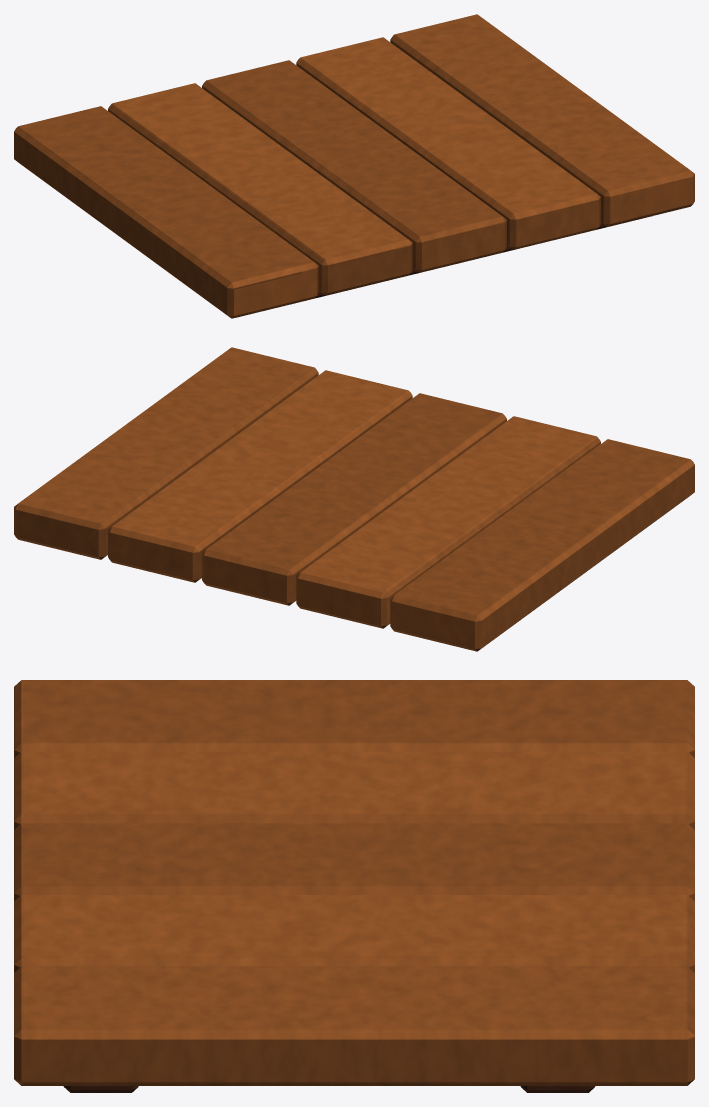
File: TX_D06_Crate_Lid.fbx
3 renders of one model, top to bottom at view 1: azimuth 30°, elevation 25°; view 2: azimuth 150°, elevation 25°; view 3: azimuth 270°, elevation 25°, orthographic. The views are drawn at different scales.
Visible parts, largest first — view 1: TX_D06_Crate_Lid; view 2: TX_D06_Crate_Lid; view 3: TX_D06_Crate_Lid.
Boxes of the visible parts, <box> form: TX_D06_Crate_Lid: <box>14,14,694,318</box>; TX_D06_Crate_Lid: <box>14,347,694,651</box>; TX_D06_Crate_Lid: <box>14,680,694,1092</box>.
Bounding box in the file's own units: 1.01 × 0.107 × 0.82.
2 materials, 2 textured.
